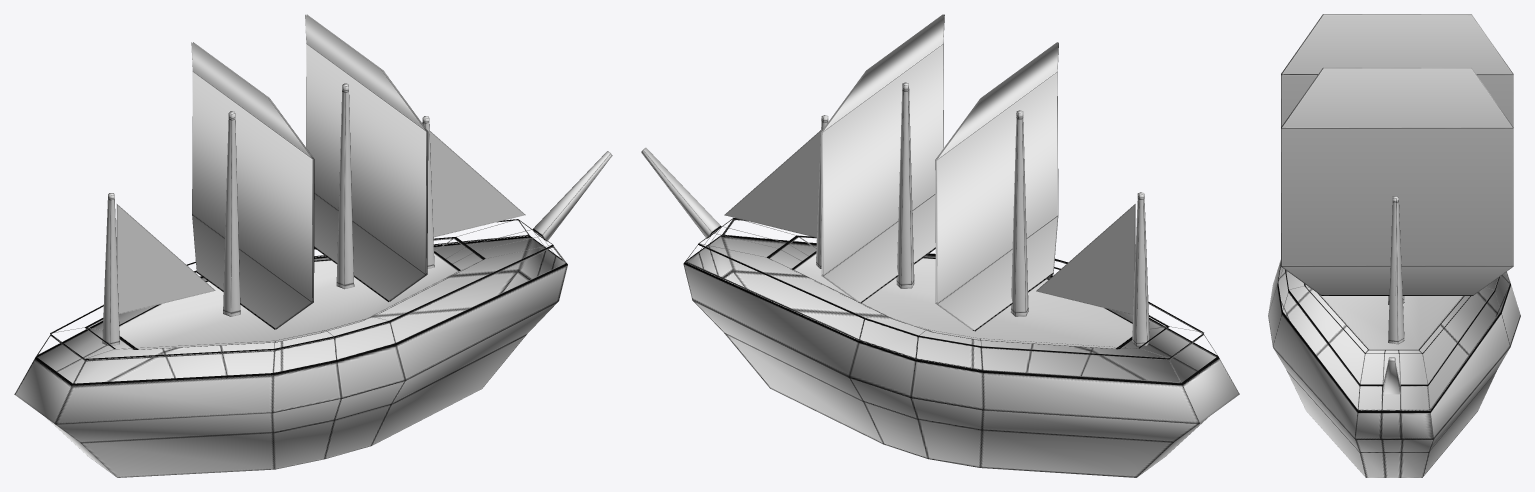
File: Barco.fbx
The picture shows the model from 3 angles, left to right: view 1: azimuth 30°, elevation 25°; view 2: azimuth 150°, elevation 25°; view 3: azimuth 270°, elevation 25°; orthographic projection. The views are drawn at different scales.
Visible parts, largest first — view 1: Icosphere, Plane.002, Plane.003, Plane, Plane.001, Icosphere.002, Icosphere.004, Icosphere.001, Icosphere.003; view 2: Icosphere, Plane.002, Plane.003, Plane, Plane.001, Icosphere.004, Icosphere.002, Icosphere.001; view 3: Plane.003, Icosphere, Plane.002, Icosphere.003.
Part boxes in pixels (left/top/right/bottom): Icosphere: left=14, top=151, right=612, bottom=477; Plane.002: left=191, top=42, right=314, bottom=329; Plane.003: left=305, top=14, right=428, bottom=301; Plane: left=116, top=204, right=215, bottom=314; Plane.001: left=429, top=131, right=525, bottom=237; Icosphere.002: left=223, top=111, right=240, bottom=316; Icosphere.004: left=336, top=83, right=354, bottom=289; Icosphere.001: left=102, top=193, right=119, bottom=345; Icosphere.003: left=422, top=116, right=434, bottom=268; Icosphere: left=641, top=148, right=1239, bottom=477; Plane.002: left=935, top=42, right=1058, bottom=331; Plane.003: left=821, top=14, right=944, bottom=303; Plane: left=1036, top=204, right=1135, bottom=314; Plane.001: left=724, top=130, right=820, bottom=237; Icosphere.004: left=896, top=82, right=914, bottom=288; Icosphere.002: left=1011, top=110, right=1028, bottom=316; Icosphere.001: left=1132, top=192, right=1149, bottom=346; Plane.003: left=1281, top=67, right=1513, bottom=295; Icosphere: left=1268, top=260, right=1520, bottom=477; Plane.002: left=1281, top=14, right=1513, bottom=126; Icosphere.003: left=1388, top=196, right=1404, bottom=344.
Size of the model in its own units: 1084 by 656 by 427.
